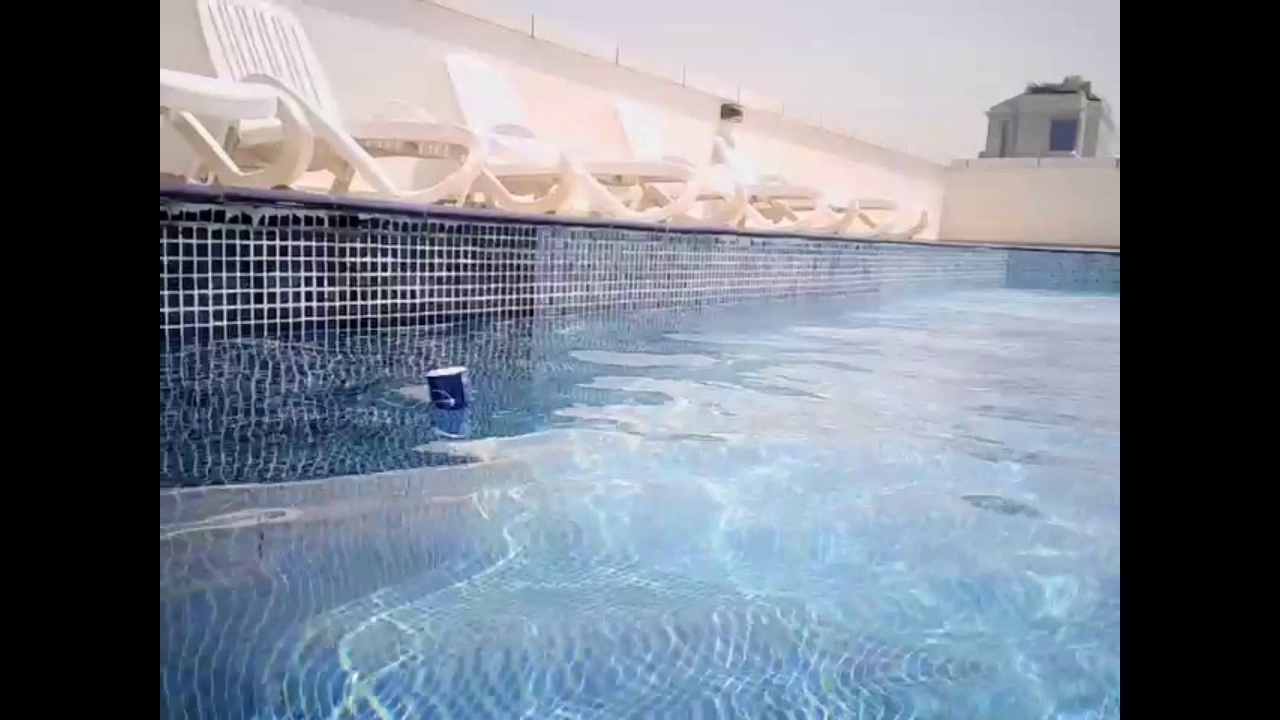debris: (421, 364, 482, 441)
